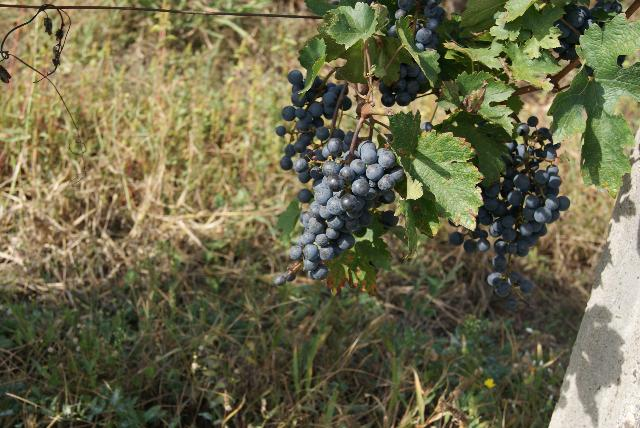grapes: (462, 116, 570, 309), (289, 129, 406, 280), (280, 70, 340, 182)
